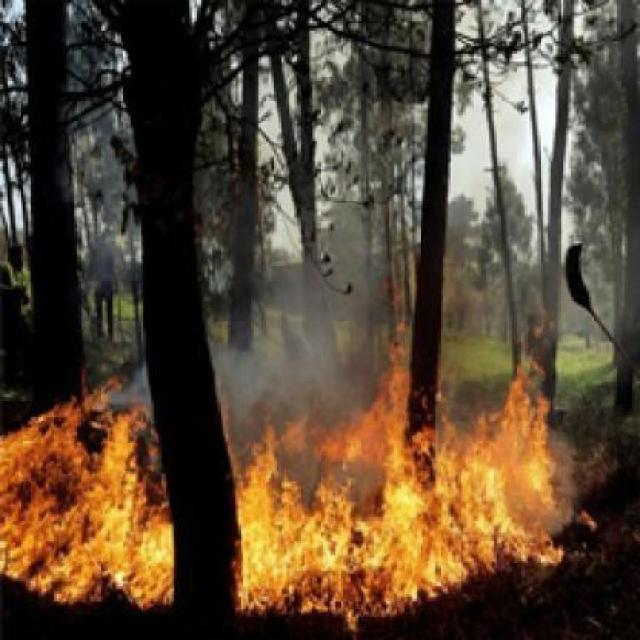Fire: (220, 310, 606, 636), (0, 369, 187, 637)
